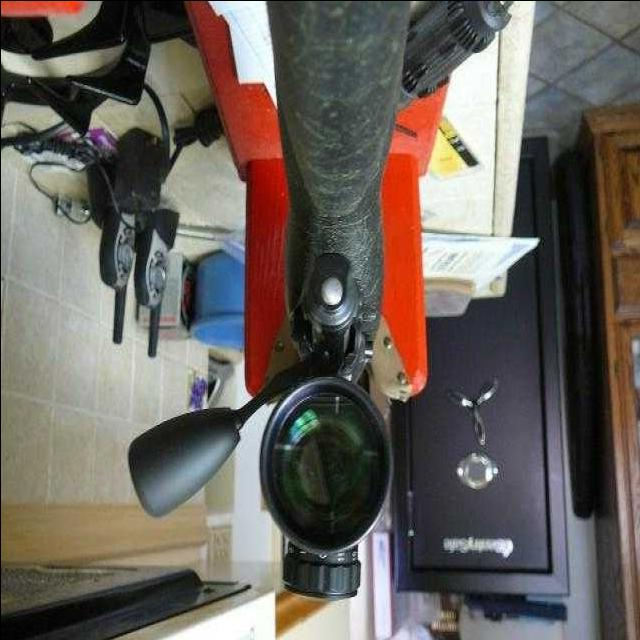heavyweapon: (122, 2, 444, 600)
